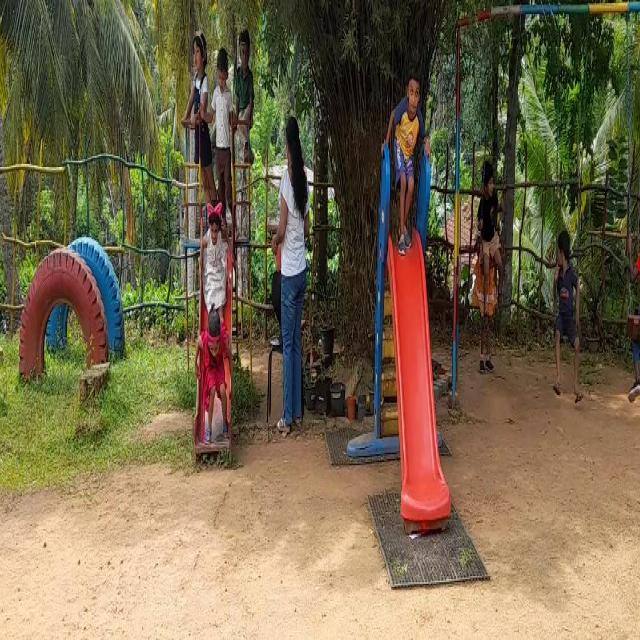adult: (272, 113, 311, 430)
child: (179, 6, 208, 198), (196, 309, 232, 456), (475, 149, 502, 332), (553, 215, 580, 392), (394, 58, 418, 256), (213, 36, 237, 186), (200, 197, 228, 298), (633, 213, 640, 404)
